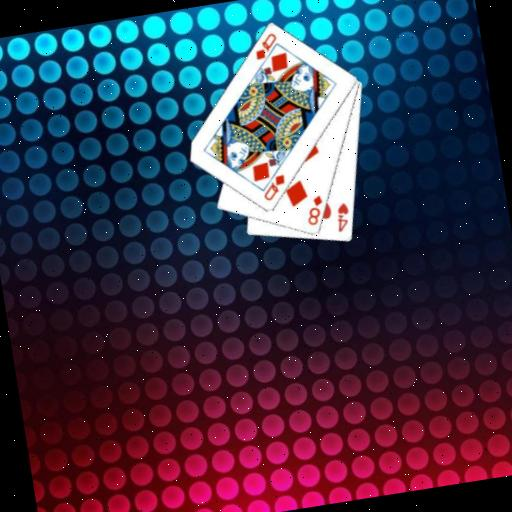4H: (330, 198, 353, 234)
8D: (301, 191, 328, 228)
QD: (249, 29, 281, 62), (258, 171, 289, 202)
